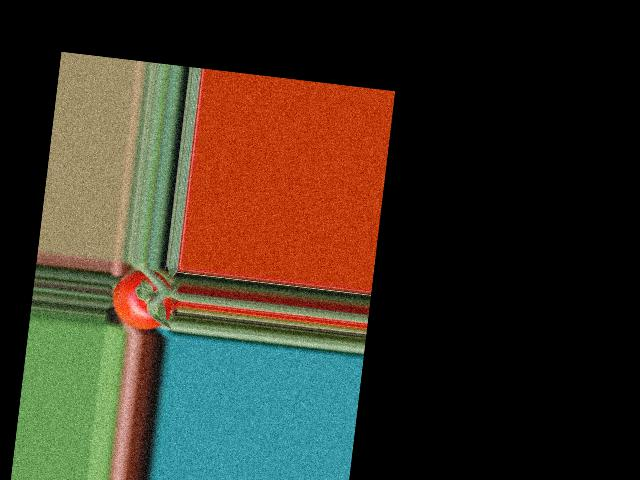tomato: (110, 266, 181, 333)
